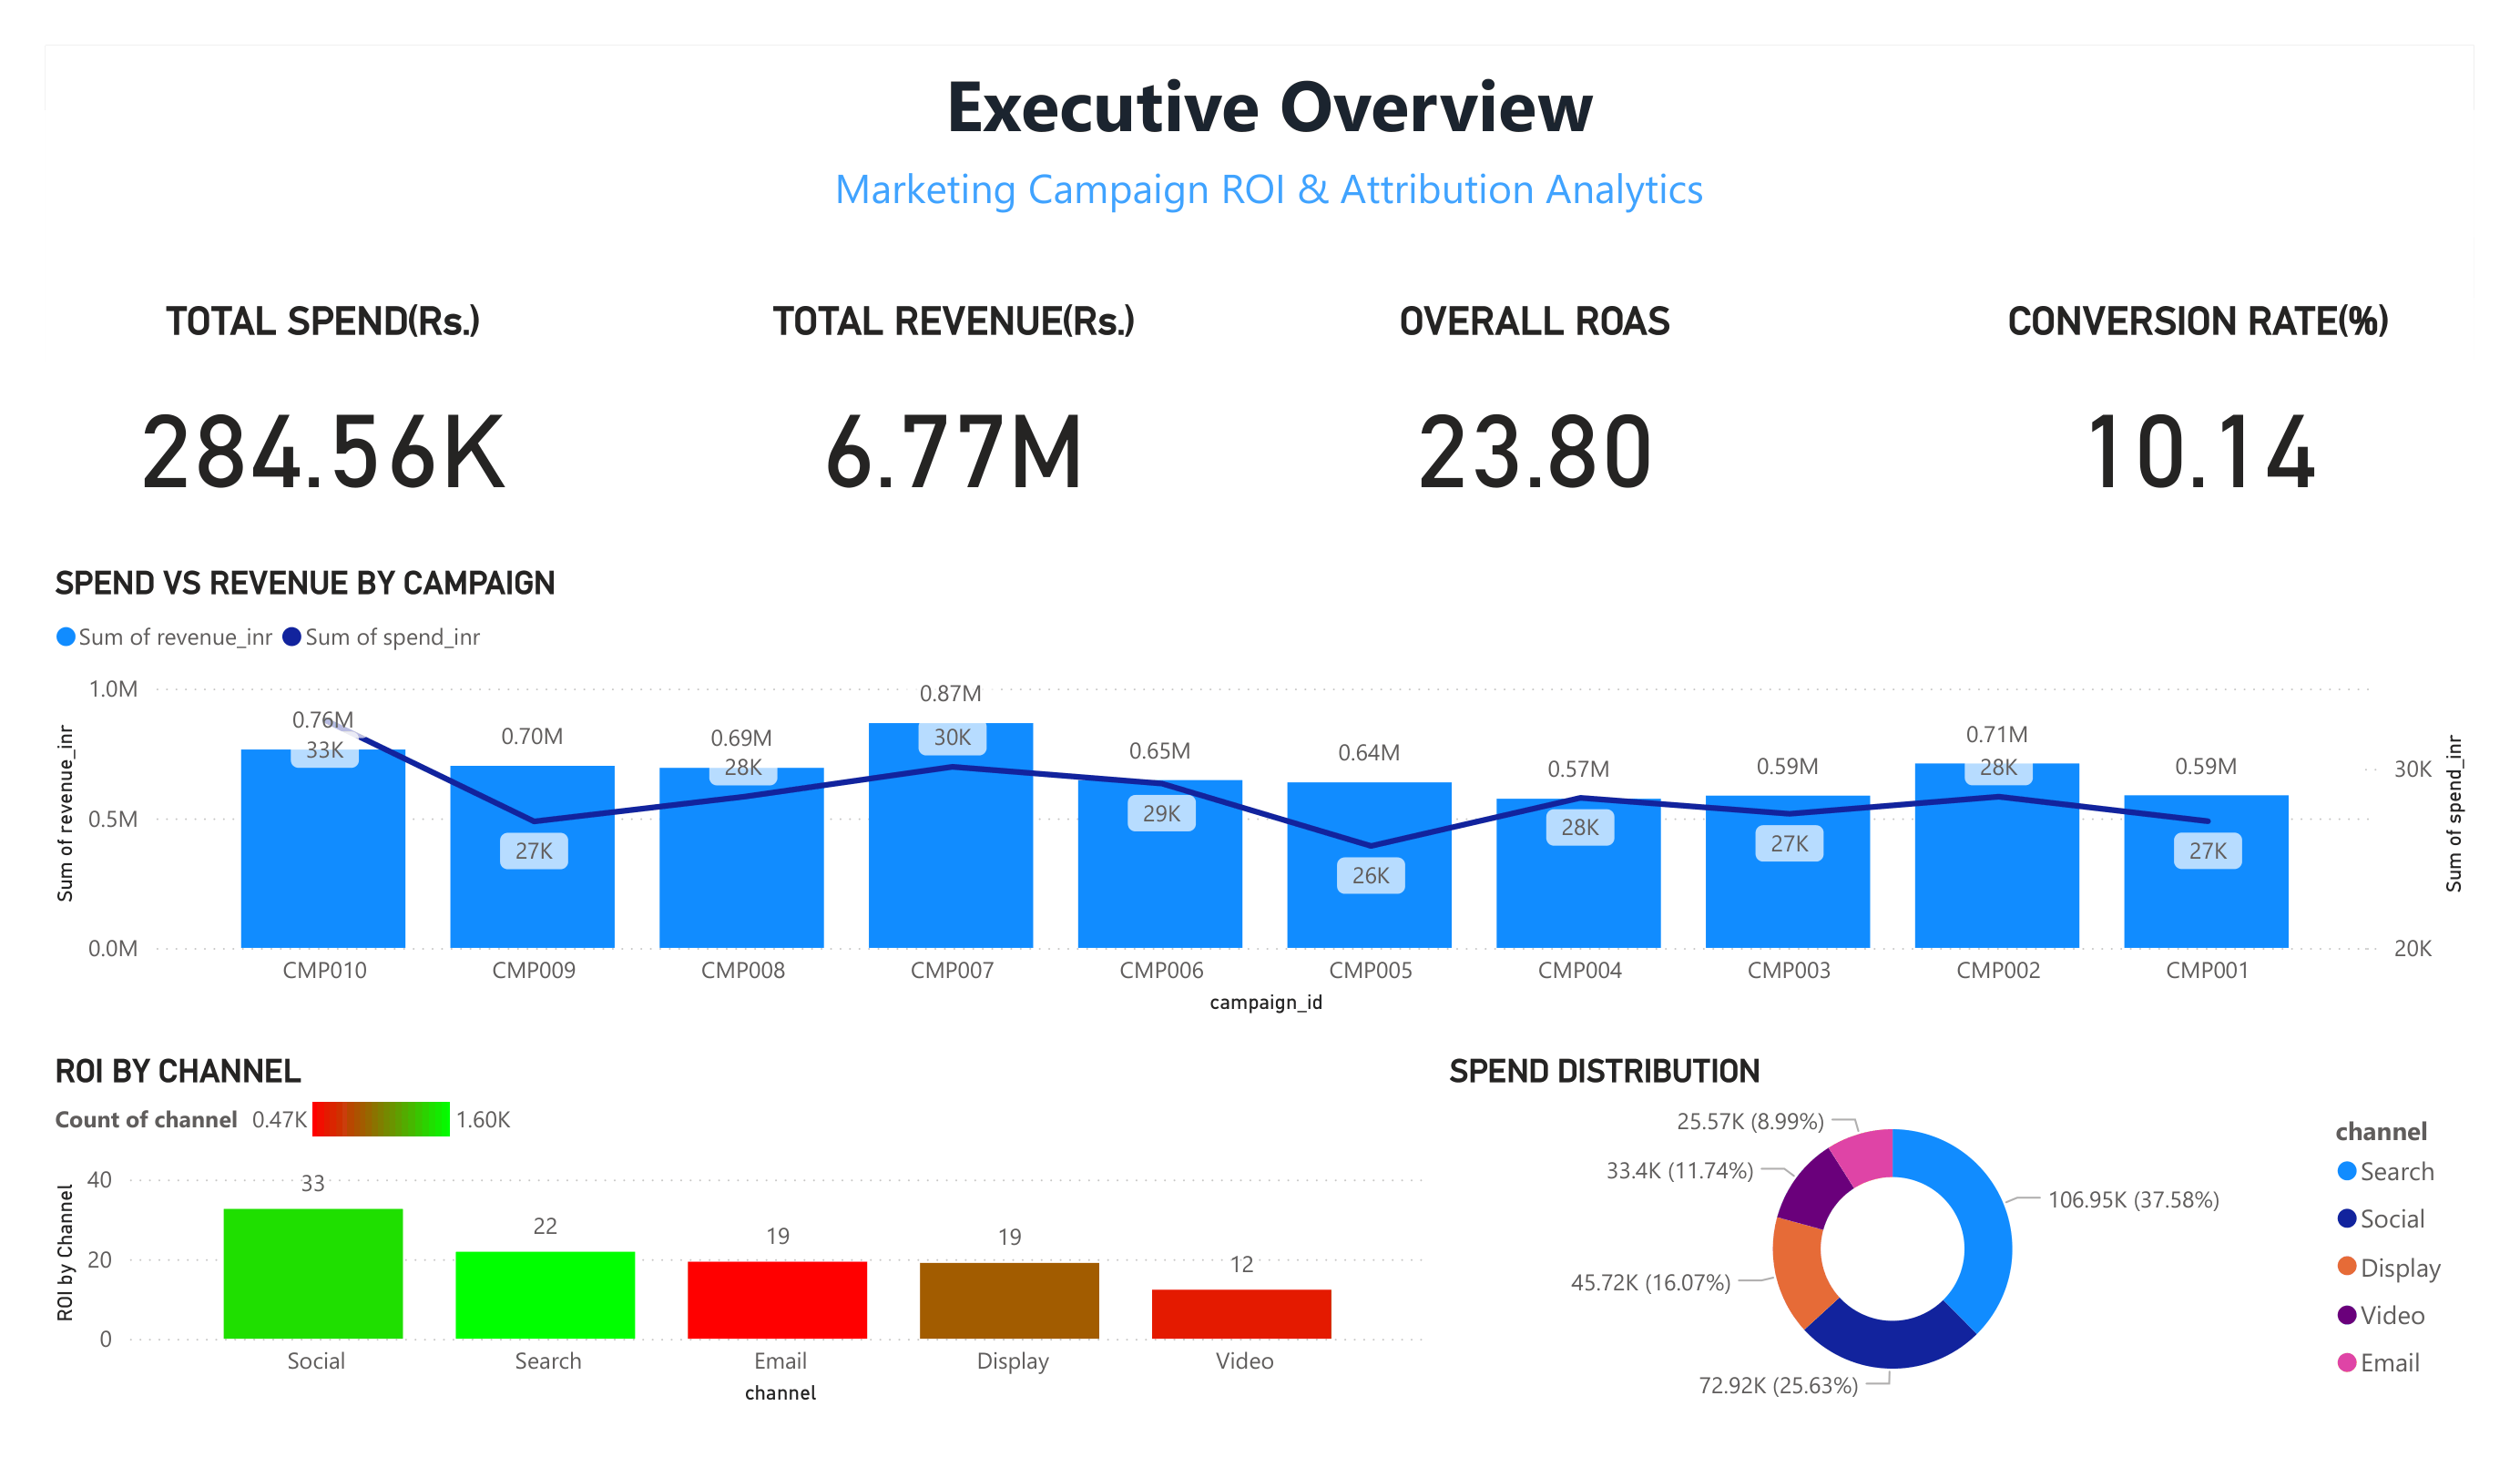

Layout of this report page (visuals, bound fields, positions):
{"tool":"powerbi","page":{"name":"Executive Overview","canvas":[1280,720],"ordinal":1},"visuals":[{"type":"textbox","box":[9.9,0,1270.5,66.3],"z":0},{"type":"textbox","box":[9.9,54.7,1270.5,46.4],"z":1000},{"type":"card","title":"CONVERSION RATE(%)","fields":{"Values":["Marketing Campaigns ROI Dataset.Conversion Rate"]},"box":[988.9,132.5,291.5,125.9],"z":2000},{"type":"card","title":"TOTAL REVENUE(Rs.)","fields":{"Values":["Marketing Campaigns ROI Dataset.Total Revenue"]},"box":[333,132.5,291.5,125.9],"z":3000},{"type":"card","title":"TOTAL SPEND(Rs.)","fields":{"Values":["Marketing Campaigns ROI Dataset.Total Spend"]},"box":[0,132.5,291.5,125.9],"z":4000},{"type":"lineClusteredColumnComboChart","title":"SPEND VS REVENUE  BY CAMPAIGN","fields":{"Category":["Marketing Campaigns ROI Dataset.campaign_id"],"Y":["Sum(Marketing Campaigns ROI Dataset.revenue_inr)"],"Y2":["Sum(Marketing Campaigns ROI Dataset.spend_inr)"]},"box":[0,273.3,1280.5,241.8],"z":5000},{"type":"clusteredColumnChart","title":"ROI BY CHANNEL","fields":{"Category":["Marketing Campaigns ROI Dataset.channel"],"Y":["Marketing Campaigns ROI Dataset.ROI by Channel"]},"box":[0,530.1,735.5,190.5],"z":6000},{"type":"donutChart","title":"SPEND DISTRIBUTION","fields":{"Y":["Marketing Campaigns ROI Dataset.Total Spend"],"Category":["Marketing Campaigns ROI Dataset.channel"]},"box":[735,530,545,190],"z":7000},{"type":"card","title":"OVERALL ROAS","fields":{"Values":["Marketing Campaigns ROI Dataset.Overall ROAS"]},"box":[639.4,132.5,291.5,125.9],"z":8000}]}

Visuals, with their boxes on the page's 1280x720 design canvas (x1, y1, x2, y2). These are canvas units, not pixel positions in the 2520x1457 screenshot, which may show the page scaled, cropped or inside an application window:
textbox: <bbox>10, 0, 1280, 66</bbox>
textbox: <bbox>10, 55, 1280, 101</bbox>
"CONVERSION RATE(%)" card: <bbox>989, 132, 1280, 258</bbox>
"TOTAL REVENUE(Rs.)" card: <bbox>333, 132, 624, 258</bbox>
"TOTAL SPEND(Rs.)" card: <bbox>0, 132, 292, 258</bbox>
"SPEND VS REVENUE  BY CAMPAIGN" lineClusteredColumnComboChart: <bbox>0, 273, 1280, 515</bbox>
"ROI BY CHANNEL" clusteredColumnChart: <bbox>0, 530, 736, 721</bbox>
"SPEND DISTRIBUTION" donutChart: <bbox>735, 530, 1280, 720</bbox>
"OVERALL ROAS" card: <bbox>639, 132, 931, 258</bbox>
